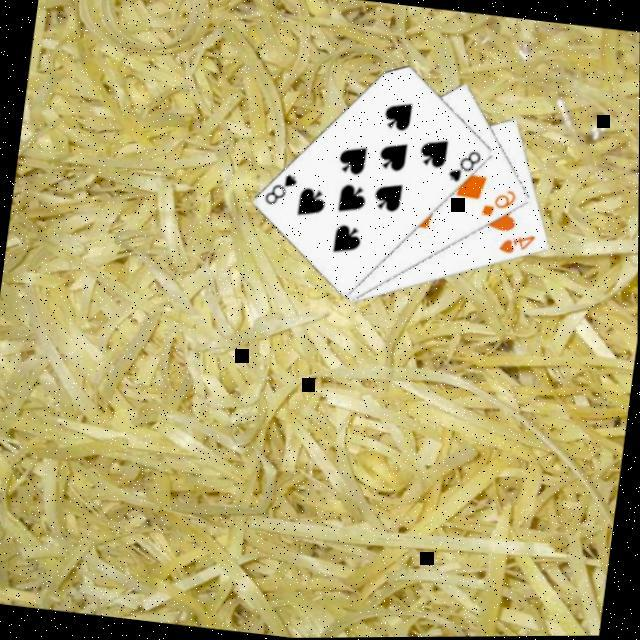4H: (493, 227, 537, 258)
6D: (476, 183, 518, 221)
8S: (443, 145, 483, 187), (259, 167, 299, 209)
